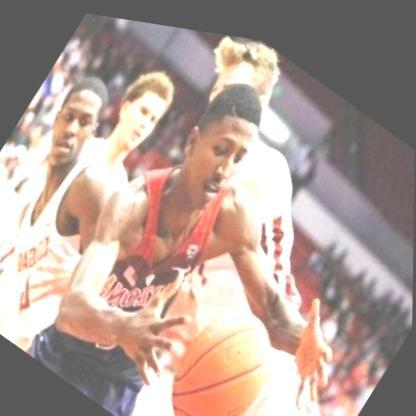basketball: (144, 268, 298, 416)
